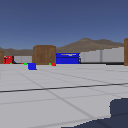blue_basket: (56, 53, 80, 64)
blue_cube: (27, 62, 36, 69)
green_cube: (48, 63, 52, 65), (24, 62, 27, 64)
obstacle: (32, 44, 56, 65), (124, 38, 128, 66), (1, 51, 4, 64)
red_basket: (3, 56, 14, 64)
red_cube: (52, 62, 56, 66), (21, 62, 24, 65)
